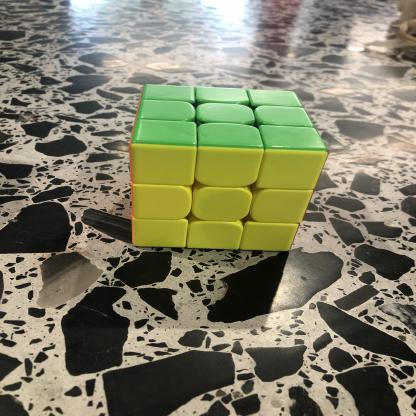SolvedCube: (125, 61, 325, 270)
